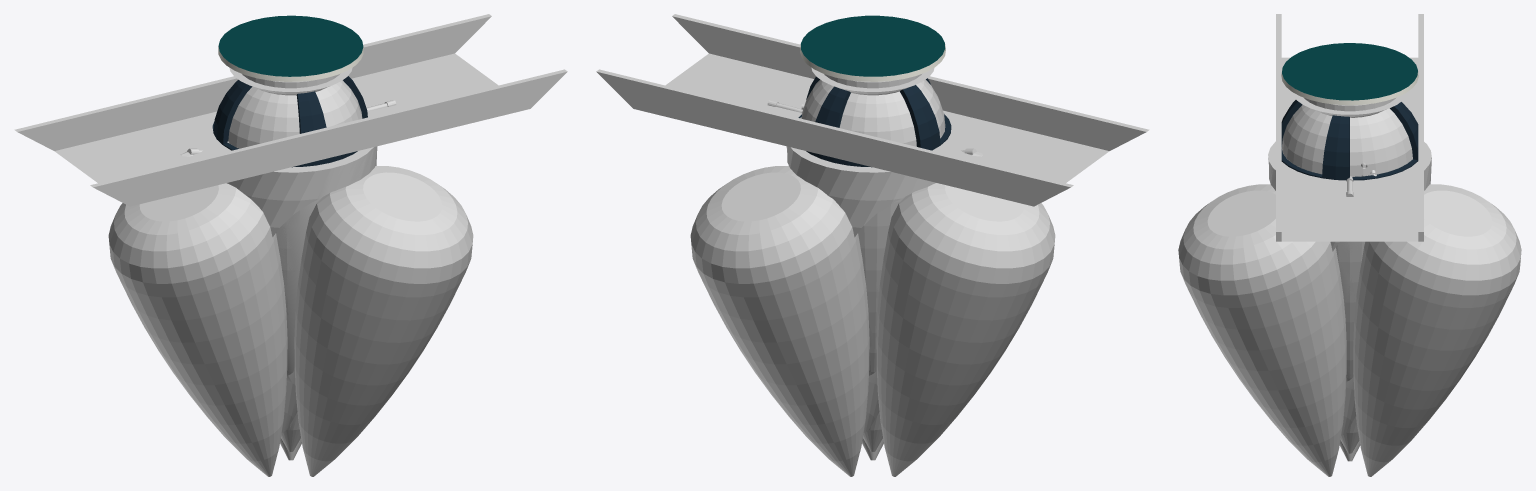
The model's file is Buildings_BoolBuilding_3.fbx.
3 views of the same model, side by side, from view 1: azimuth 30°, elevation 25°; view 2: azimuth 150°, elevation 25°; view 3: azimuth 270°, elevation 25° (orthographic). The views are drawn at different scales.
Parts seen in each view (by area): view 1: Cylinder.004, roadConnector.001, Cylinder.002, Buidling_4.002, Building_3.001, GlassDome.001, Building_3.002, GlassBase.001, Building_1.001, Cylinder.005; view 2: Cylinder.003, roadConnector.001, Cylinder.002, Buidling_4.002, Building_3.001, GlassDome.001, GlassBase.001, Cylinder.005, Building_1.001, Building_3.002; view 3: Cylinder.003, Cylinder.004, roadConnector.001, Buidling_4.002, GlassDome.001, GlassBase.001, Cylinder.005, Building_3.001, Building_1.001, Building_3.002.
Part boxes in pixels (x1,y1,x2,y2): Cylinder.004: (294,166,473,476); roadConnector.001: (14,14,567,206); Cylinder.002: (108,183,287,476); Buidling_4.002: (218,15,363,81); Building_3.001: (227,147,376,451); GlassDome.001: (228,80,362,148); Building_3.002: (229,143,377,451); GlassBase.001: (212,76,367,167); Building_1.001: (229,67,352,95); Cylinder.005: (231,144,322,374); Cylinder.003: (690,166,869,476); roadConnector.001: (596,14,1149,206); Cylinder.002: (876,183,1055,476); Buidling_4.002: (800,15,945,81); Building_3.001: (786,146,935,451); GlassDome.001: (801,79,945,146); GlassBase.001: (798,76,951,167); Cylinder.005: (858,133,943,375); Building_1.001: (811,67,934,95); Building_3.002: (793,149,891,432); Cylinder.003: (1353,184,1521,476); Cylinder.004: (1178,184,1346,476); roadConnector.001: (1276,14,1423,241); Buidling_4.002: (1281,43,1418,105); GlassDome.001: (1282,105,1412,176); GlassBase.001: (1281,100,1418,180); Cylinder.005: (1336,160,1411,381); Building_3.001: (1268,141,1431,453); Building_1.001: (1292,92,1407,117); Building_3.002: (1268,142,1431,440).
Bounding box in the file's own units: 754 × 645 × 502.
